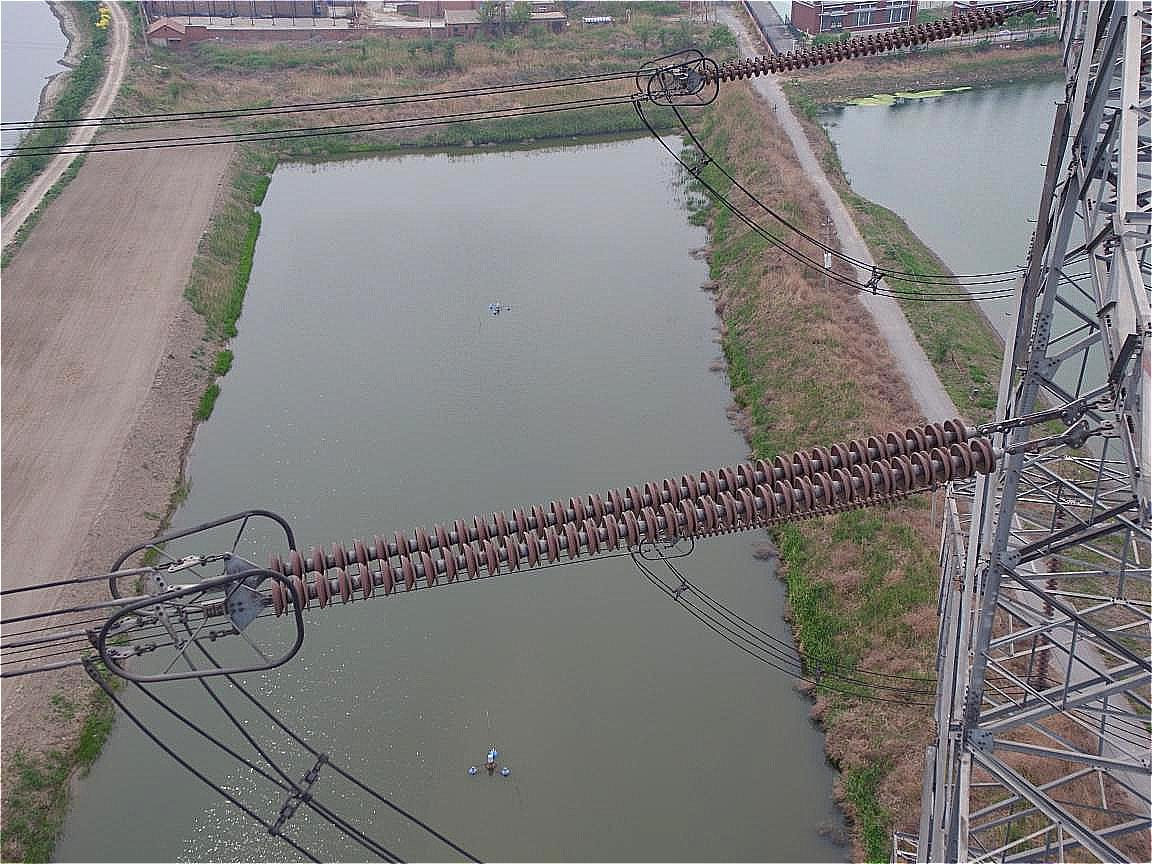insultor1: (699, 9, 1007, 86)
insultor2: (269, 417, 996, 619)
